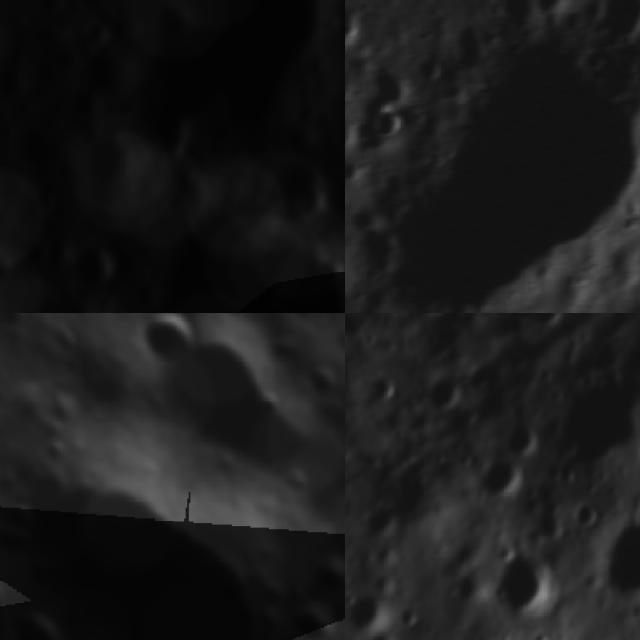crater: (365, 35, 640, 313), (0, 402, 319, 640), (108, 158, 345, 313), (115, 313, 318, 484), (143, 0, 345, 157), (263, 356, 345, 600), (58, 109, 167, 215), (0, 259, 153, 313), (118, 313, 223, 386), (62, 237, 126, 300), (504, 543, 555, 619), (0, 593, 78, 640), (293, 353, 345, 411), (602, 521, 640, 599), (285, 594, 345, 640), (586, 0, 640, 48), (291, 176, 339, 222), (268, 326, 313, 374), (34, 427, 79, 473), (0, 554, 23, 640), (45, 389, 88, 434), (480, 462, 525, 505), (345, 589, 387, 632), (52, 320, 93, 363), (314, 548, 345, 603), (78, 15, 118, 55), (500, 0, 543, 34), (371, 374, 402, 411), (506, 426, 546, 452), (578, 48, 615, 76), (325, 315, 345, 366), (578, 494, 601, 534), (345, 0, 360, 60), (374, 109, 399, 145), (345, 113, 364, 158), (401, 600, 427, 632), (530, 0, 578, 17), (0, 313, 14, 364)
